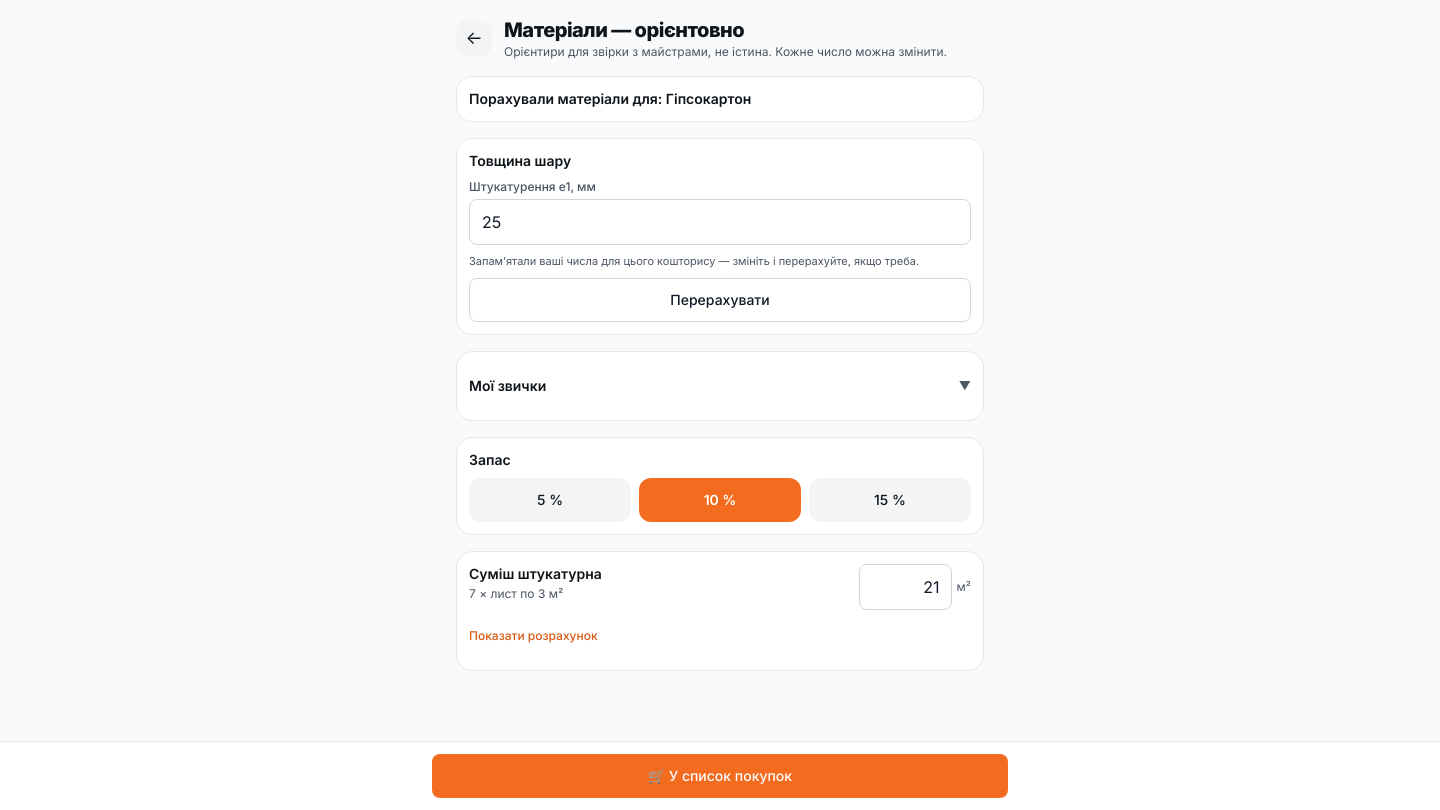
Test: MaterialCalculatorPage › does not claim it remembered a figure the server refused to keep
The width and height of the screenshot is (1440, 810).
Expected: the text "Запамʼятали ваші числа" is shown, [469,254,919,268]
Replace the text in the field labelled "Штукатурення e1, мм" with "30" at (720, 222), box [469,199,971,245]
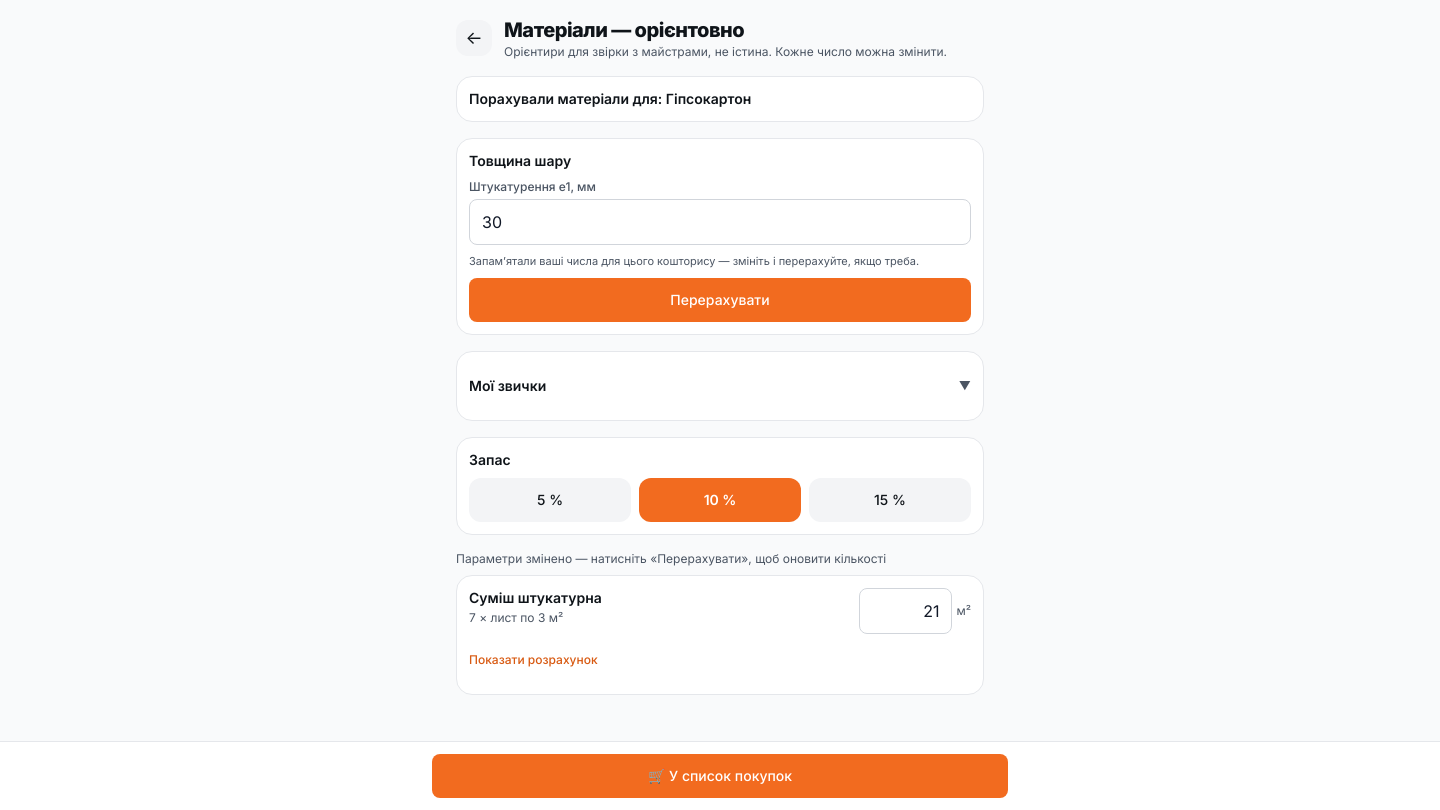
Click the button "Перерахувати" at (720, 300), box [469,278,971,322]
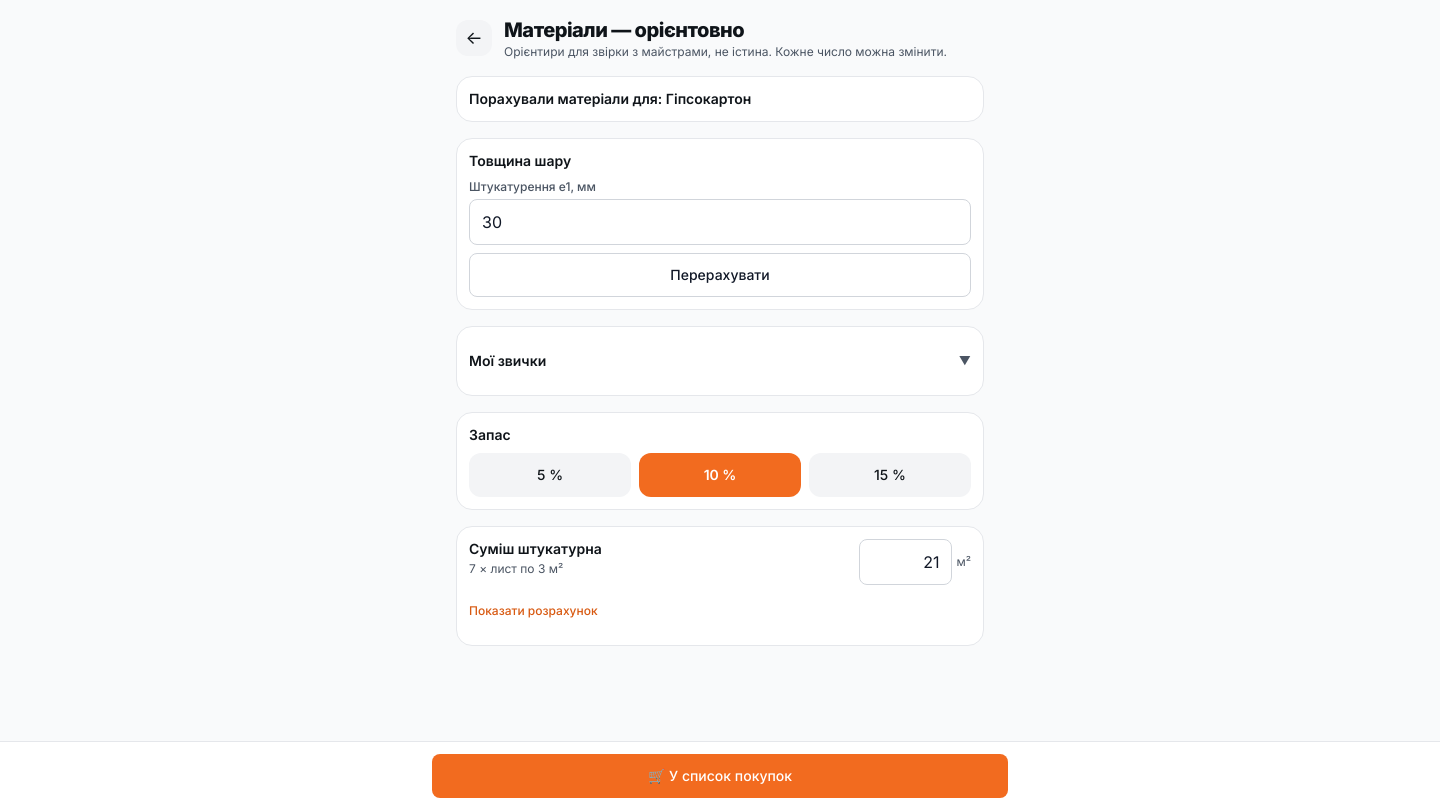
Result: the text "Запамʼятали ваші числа" is gone
